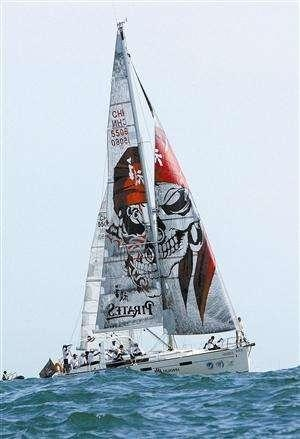fanchuan: (49, 12, 256, 390)
